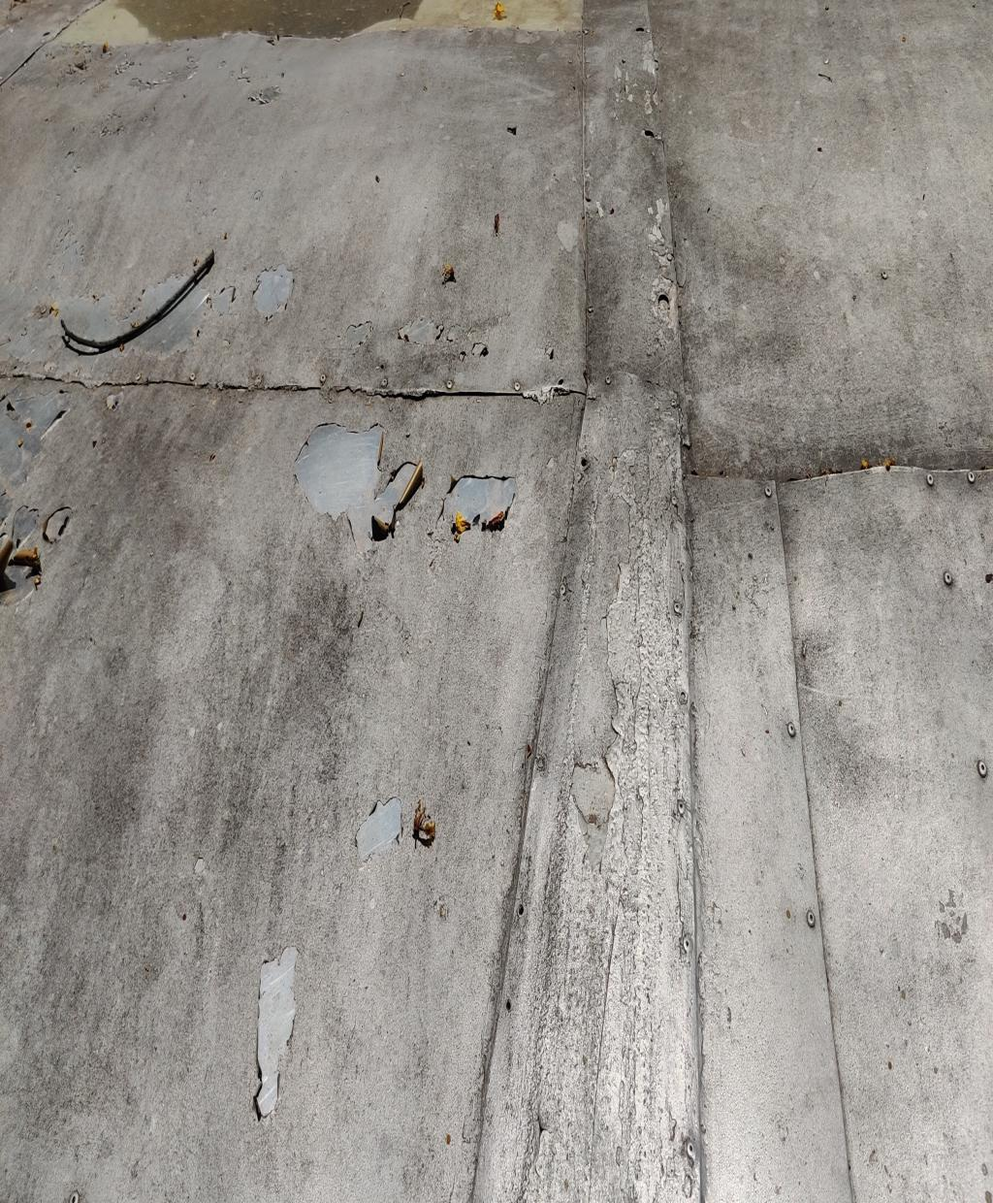corrosion: (295, 319, 426, 633), (437, 409, 518, 629), (234, 913, 310, 1126), (351, 755, 405, 895), (250, 224, 296, 339)
